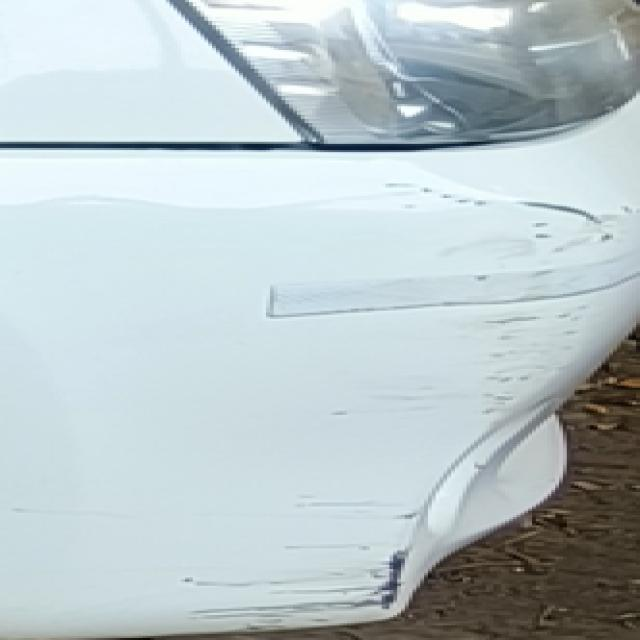scratch: (208, 184, 625, 421), (154, 479, 447, 640)
